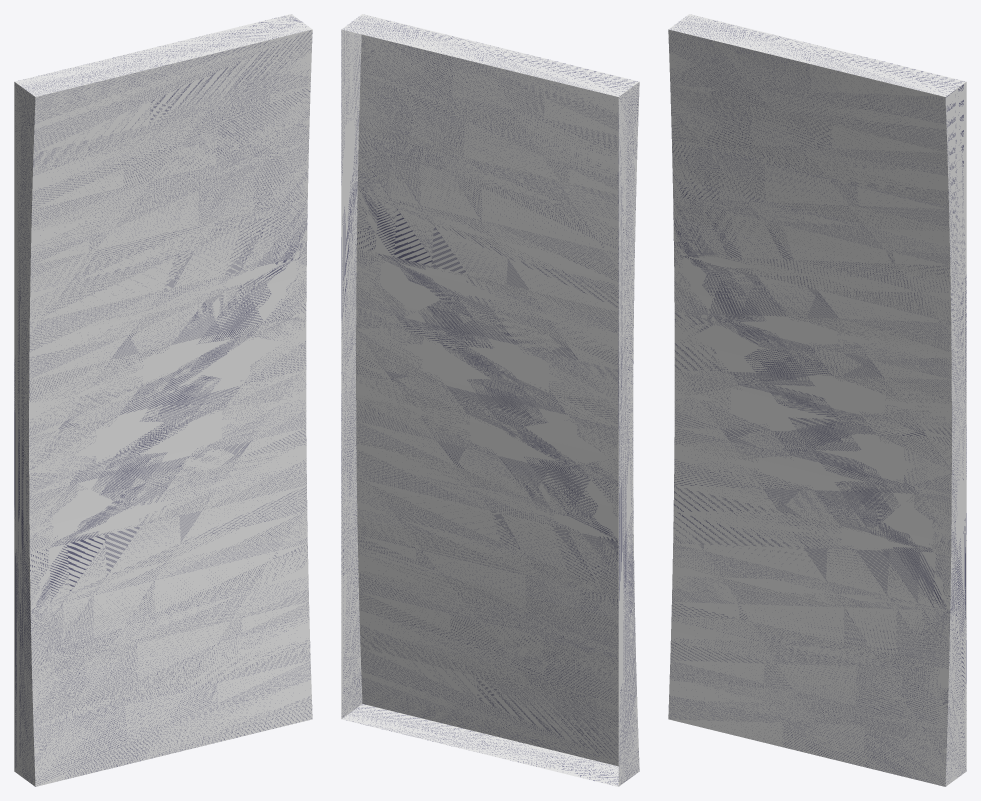
Rendered from original-85.obj.
3 renders of one model, left to right at view 1: azimuth 30°, elevation 25°; view 2: azimuth 150°, elevation 25°; view 3: azimuth 330°, elevation 25°, orthographic.
Parts seen in each view (by area): view 1: mesh2/mesh2-geometry/material_7/component_0#mesh2-geometry; view 2: mesh2/mesh2-geometry/material_7/component_0#mesh2-geometry; view 3: mesh2/mesh2-geometry/material_7/component_0#mesh2-geometry.
Boxes of the visible parts, x1,y1,x2,y2 form: mesh2/mesh2-geometry/material_7/component_0#mesh2-geometry: (14,14,312,786); mesh2/mesh2-geometry/material_7/component_0#mesh2-geometry: (341,14,639,786); mesh2/mesh2-geometry/material_7/component_0#mesh2-geometry: (668,14,966,786).
Size of the model in its own units: 0.0503 by 0.1196 by 0.00665.
